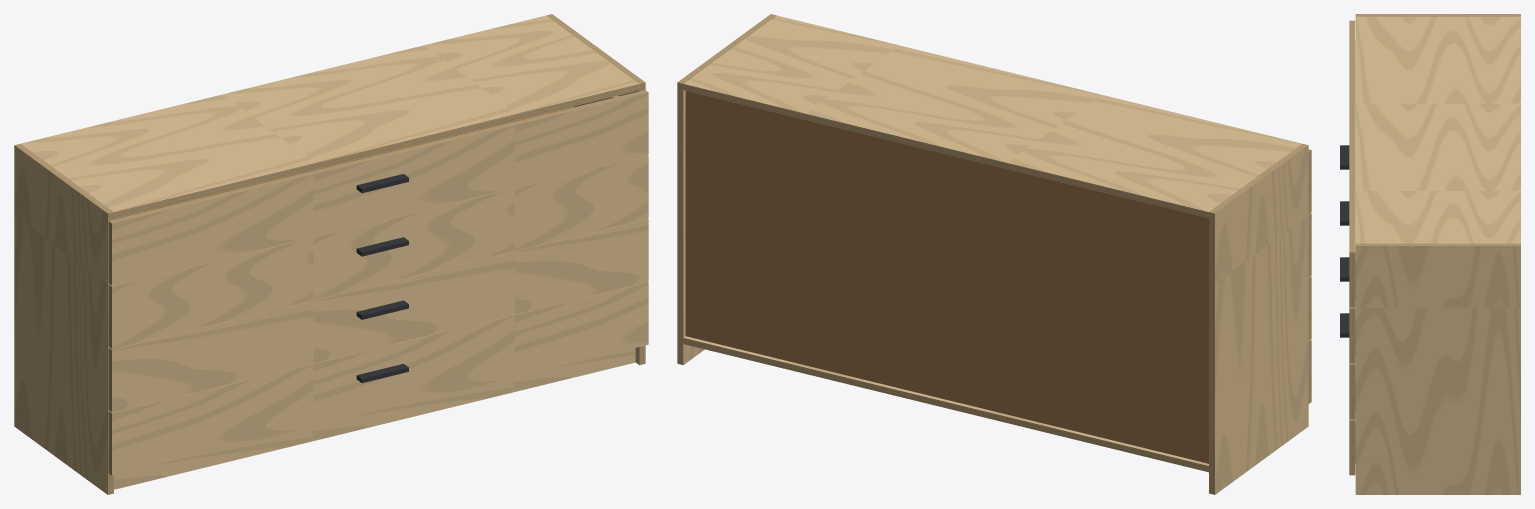
File: SAB-DRS-wide.glb
The picture shows the model from 3 angles, left to right: view 1: azimuth 30°, elevation 25°; view 2: azimuth 150°, elevation 25°; view 3: azimuth 270°, elevation 25°; orthographic projection. The views are drawn at different scales.
Parts seen in each view (by area): view 1: top:sheet:eyJtIjoicGx5Iiwic2lkZSI6ImZhY2UiLCJzZWVkIjo2LCJ2ZW, d3-front:sheet:eyJtIjoicGx5Iiwic2lkZSI6ImZhY2UiLCJzZWVkIjowL, d1-front:sheet:eyJtIjoicGx5Iiwic2lkZSI6ImZhY2UiLCJzZWVkIjoyL, d4-front:sheet:eyJtIjoicGx5Iiwic2lkZSI6ImZhY2UiLCJzZWVkIjoyL, d2-front:sheet:eyJtIjoicGx5Iiwic2lkZSI6ImZhY2UiLCJzZWVkIjo2L, side-l:sheet:eyJtIjoicGx5Iiwic2lkZSI6ImZhY2UiLCJzZWVkIjoxLCJ, plinth:sheet:eyJtIjoicGx5Iiwic2lkZSI6ImZhY2UiLCJzZWVkIjozLCJ, top:sheet:eyJtIjoicGx5Iiwic2lkZSI6ImVkZ2UtbG9uZyIsInNlZWQiOj, d4-front:sheet:eyJtIjoicGx5Iiwic2lkZSI6ImVkZ2UtbG9uZyIsInNlZ, pull, d2-front:sheet:eyJtIjoicGx5Iiwic2lkZSI6ImVkZ2UtbG9uZyIsInNlZ, d3-front:sheet:eyJtIjoicGx5Iiwic2lkZSI6ImVkZ2UtbG9uZyIsInNlZ (+2 smaller); view 2: back:sheet:eyJtIjoibWRmIiwic2lkZSI6ImZhY2UiLCJzZWVkIjo0LCJ0a, top:sheet:eyJtIjoicGx5Iiwic2lkZSI6ImZhY2UiLCJzZWVkIjo2LCJ2ZW, side-l:sheet:eyJtIjoicGx5Iiwic2lkZSI6ImZhY2UiLCJzZWVkIjoxLCJ, top:sheet:eyJtIjoicGx5Iiwic2lkZSI6ImVkZ2UtbG9uZyIsInNlZWQiOj, bottom:sheet:eyJtIjoicGx5Iiwic2lkZSI6ImVkZ2UtbG9uZyIsInNlZWQ, side-r:sheet:eyJtIjoicGx5Iiwic2lkZSI6ImVkZ2UtbG9uZyIsInNlZWQ, side-l:sheet:eyJtIjoicGx5Iiwic2lkZSI6ImVkZ2UtbG9uZyIsInNlZWQ, bottom:sheet:eyJtIjoicGx5Iiwic2lkZSI6ImZhY2UiLCJzZWVkIjowLCJ, side-r:sheet:eyJtIjoicGx5Iiwic2lkZSI6ImZhY2UiLCJzZWVkIjozLCJ; view 3: side-r:sheet:eyJtIjoicGx5Iiwic2lkZSI6ImZhY2UiLCJzZWVkIjozLCJ, top:sheet:eyJtIjoicGx5Iiwic2lkZSI6ImZhY2UiLCJzZWVkIjo2LCJ2ZW, d4-front:sheet:eyJtIjoicGx5Iiwic2lkZSI6ImVkZ2UtbG9uZyIsInNlZ, pull, side-l:sheet:eyJtIjoicGx5Iiwic2lkZSI6ImVkZ2UtZW5kIiwic2VlZCI, side-r:sheet:eyJtIjoicGx5Iiwic2lkZSI6ImVkZ2UtZW5kIiwic2VlZCI, d1-front:sheet:eyJtIjoicGx5Iiwic2lkZSI6ImVkZ2UtZW5kIiwic2VlZ, d2-front:sheet:eyJtIjoicGx5Iiwic2lkZSI6ImVkZ2UtZW5kIiwic2VlZ, d3-front:sheet:eyJtIjoicGx5Iiwic2lkZSI6ImVkZ2UtZW5kIiwic2VlZ, d4-front:sheet:eyJtIjoicGx5Iiwic2lkZSI6ImVkZ2UtZW5kIiwic2VlZ, d4-box-front:sheet:eyJtIjoicGx5Iiwic2lkZSI6ImVkZ2UtbG9uZyIsI.
Boxes of the visible parts, <box> form: top:sheet:eyJtIjoicGx5Iiwic2lkZSI6ImZhY2UiLCJzZWVkIjo2LCJ2ZW: <box>21,15,638,211</box>; d3-front:sheet:eyJtIjoicGx5Iiwic2lkZSI6ImZhY2UiLCJzZWVkIjowL: <box>112,156,648,348</box>; d1-front:sheet:eyJtIjoicGx5Iiwic2lkZSI6ImZhY2UiLCJzZWVkIjoyL: <box>112,282,648,475</box>; d4-front:sheet:eyJtIjoicGx5Iiwic2lkZSI6ImZhY2UiLCJzZWVkIjoyL: <box>112,92,648,285</box>; d2-front:sheet:eyJtIjoicGx5Iiwic2lkZSI6ImZhY2UiLCJzZWVkIjo2L: <box>112,219,648,412</box>; side-l:sheet:eyJtIjoicGx5Iiwic2lkZSI6ImZhY2UiLCJzZWVkIjoxLCJ: <box>14,145,107,494</box>; plinth:sheet:eyJtIjoicGx5Iiwic2lkZSI6ImZhY2UiLCJzZWVkIjozLCJ: <box>114,348,635,489</box>; top:sheet:eyJtIjoicGx5Iiwic2lkZSI6ImVkZ2UtbG9uZyIsInNlZWQiOj: <box>114,84,639,218</box>; d4-front:sheet:eyJtIjoicGx5Iiwic2lkZSI6ImVkZ2UtbG9uZyIsInNlZ: <box>109,90,648,223</box>; pull: <box>356,174,408,382</box>; d2-front:sheet:eyJtIjoicGx5Iiwic2lkZSI6ImVkZ2UtbG9uZyIsInNlZ: <box>109,218,648,349</box>; d3-front:sheet:eyJtIjoicGx5Iiwic2lkZSI6ImVkZ2UtbG9uZyIsInNlZ: <box>109,155,648,286</box>; back:sheet:eyJtIjoibWRmIiwic2lkZSI6ImZhY2UiLCJzZWVkIjo0LCJ0a: <box>685,91,1208,463</box>; top:sheet:eyJtIjoicGx5Iiwic2lkZSI6ImZhY2UiLCJzZWVkIjo2LCJ2ZW: <box>684,15,1301,211</box>; side-l:sheet:eyJtIjoicGx5Iiwic2lkZSI6ImZhY2UiLCJzZWVkIjoxLCJ: <box>1215,145,1308,494</box>; top:sheet:eyJtIjoicGx5Iiwic2lkZSI6ImVkZ2UtbG9uZyIsInNlZWQiOj: <box>683,84,1208,218</box>; bottom:sheet:eyJtIjoicGx5Iiwic2lkZSI6ImVkZ2UtbG9uZyIsInNlZWQ: <box>683,338,1208,472</box>; side-r:sheet:eyJtIjoicGx5Iiwic2lkZSI6ImVkZ2UtbG9uZyIsInNlZWQ: <box>677,82,683,364</box>; side-l:sheet:eyJtIjoicGx5Iiwic2lkZSI6ImVkZ2UtbG9uZyIsInNlZWQ: <box>1209,212,1214,494</box>; bottom:sheet:eyJtIjoicGx5Iiwic2lkZSI6ImZhY2UiLCJzZWVkIjowLCJ: <box>683,336,1208,465</box>; side-r:sheet:eyJtIjoicGx5Iiwic2lkZSI6ImZhY2UiLCJzZWVkIjozLCJ: <box>683,90,704,364</box>; side-r:sheet:eyJtIjoicGx5Iiwic2lkZSI6ImZhY2UiLCJzZWVkIjozLCJ: <box>1355,246,1520,494</box>; top:sheet:eyJtIjoicGx5Iiwic2lkZSI6ImZhY2UiLCJzZWVkIjo2LCJ2ZW: <box>1355,16,1520,243</box>; d4-front:sheet:eyJtIjoicGx5Iiwic2lkZSI6ImVkZ2UtbG9uZyIsInNlZ: <box>1349,20,1355,252</box>; pull: <box>1340,145,1349,337</box>; side-l:sheet:eyJtIjoicGx5Iiwic2lkZSI6ImVkZ2UtZW5kIiwic2VlZCI: <box>1355,14,1520,16</box>; side-r:sheet:eyJtIjoicGx5Iiwic2lkZSI6ImVkZ2UtZW5kIiwic2VlZCI: <box>1355,243,1520,245</box>; d1-front:sheet:eyJtIjoicGx5Iiwic2lkZSI6ImVkZ2UtZW5kIiwic2VlZ: <box>1349,420,1355,475</box>; d2-front:sheet:eyJtIjoicGx5Iiwic2lkZSI6ImVkZ2UtZW5kIiwic2VlZ: <box>1349,364,1355,419</box>; d3-front:sheet:eyJtIjoicGx5Iiwic2lkZSI6ImVkZ2UtZW5kIiwic2VlZ: <box>1349,308,1355,363</box>; d4-front:sheet:eyJtIjoicGx5Iiwic2lkZSI6ImVkZ2UtZW5kIiwic2VlZ: <box>1349,252,1355,307</box>; d4-box-front:sheet:eyJtIjoicGx5Iiwic2lkZSI6ImVkZ2UtbG9uZyIsI: <box>1355,41,1355,259</box>.
Size of the model in its own units: 1.6 by 0.8 by 0.527.
91 materials, 90 textured.
